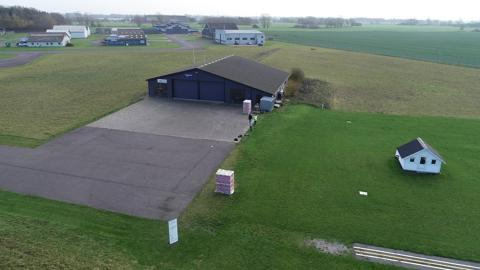RockwoolPallet: (242, 99, 252, 116)
